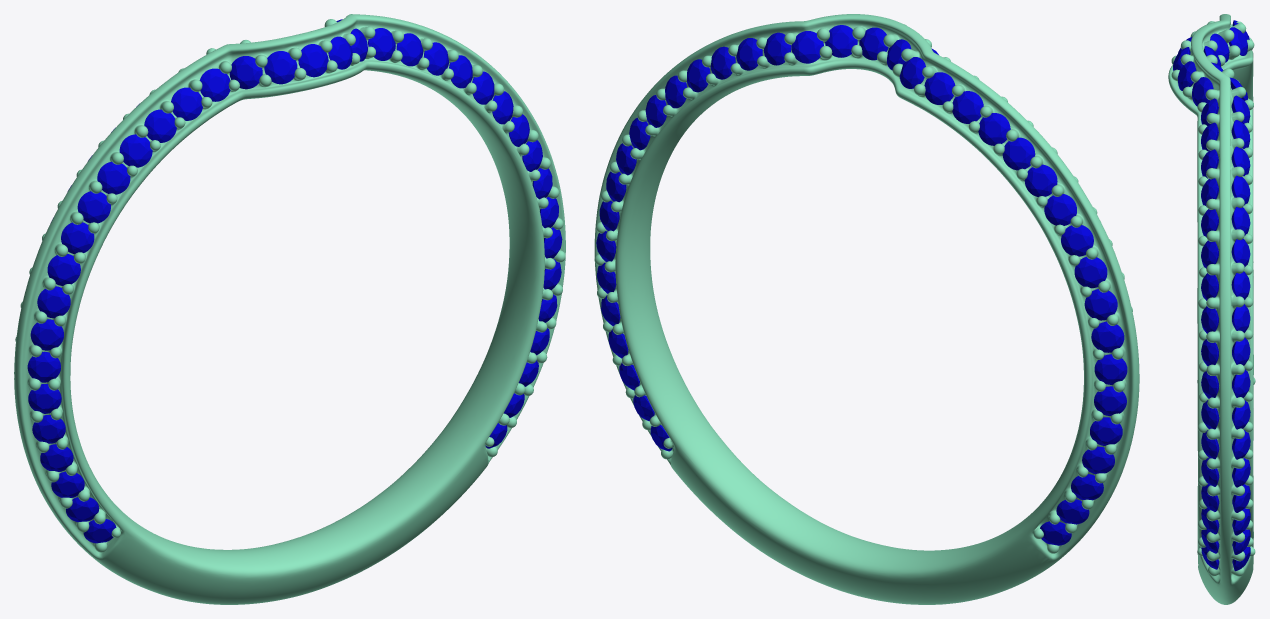
3 renders of one model, left to right at view 1: azimuth 30°, elevation 25°; view 2: azimuth 150°, elevation 25°; view 3: azimuth 270°, elevation 25°, orthographic. The views are drawn at different scales.
Visible parts, largest first — view 1: Metal03, Diamond_Band.073, Diamond_Band.067, Diamond_Band.066, Diamond_Band.068, Diamond_Band.069, Diamond_Band.070, Diamond_Band.064, Diamond_Band.065, Diamond_Band.074, Diamond_Band.063, Diamond_Band.071 (+4 smaller); view 2: Metal03, Diamond_Band.024, Diamond_Band.026, Diamond_Band.025, Diamond_Band.027, Diamond_Band.028, Diamond_Band.023, Diamond_Band.022, Diamond_Band, Diamond_Band.029, Diamond_Band.021, Diamond_Band.030 (+4 smaller); view 3: Metal03, Diamond_Band.075, Diamond_Band.011, Diamond_Band.010, Diamond_Band.009, Diamond_Band.012, Diamond_Band.008, Diamond_Band.047, Diamond_Band.013, Diamond_Band.045, Diamond_Band.046, Diamond_Band.048 (+28 smaller).
Part boxes in pixels (<box>): Metal03: <box>14,14,565,604</box>; Diamond_Band.073: <box>264,51,297,84</box>; Diamond_Band.067: <box>97,161,130,194</box>; Diamond_Band.066: <box>77,191,110,223</box>; Diamond_Band.068: <box>119,134,152,167</box>; Diamond_Band.069: <box>144,109,176,142</box>; Diamond_Band.070: <box>171,87,202,120</box>; Diamond_Band.064: <box>47,254,80,285</box>; Diamond_Band.065: <box>61,222,94,253</box>; Diamond_Band.074: <box>229,56,262,89</box>; Diamond_Band.063: <box>37,286,70,318</box>; Diamond_Band.071: <box>199,68,230,101</box>; Metal03: <box>594,14,1139,604</box>; Diamond_Band.024: <box>1002,137,1035,170</box>; Diamond_Band.026: <box>1044,194,1076,225</box>; Diamond_Band.025: <box>1024,164,1057,196</box>; Diamond_Band.027: <box>1061,225,1093,256</box>; Diamond_Band.028: <box>1074,257,1107,288</box>; Diamond_Band.023: <box>978,113,1010,145</box>; Diamond_Band.022: <box>952,91,983,123</box>; Diamond_Band: <box>791,31,823,63</box>; Diamond_Band.029: <box>1084,289,1117,320</box>; Diamond_Band.021: <box>924,72,955,104</box>; Diamond_Band.030: <box>1091,321,1124,352</box>; Metal03: <box>1168,14,1255,604</box>; Diamond_Band.075: <box>1192,77,1213,106</box>; Diamond_Band.011: <box>1231,271,1250,299</box>; Diamond_Band.010: <box>1232,304,1250,332</box>; Diamond_Band.009: <box>1232,337,1250,365</box>; Diamond_Band.012: <box>1231,238,1250,267</box>; Diamond_Band.008: <box>1232,369,1250,397</box>; Diamond_Band.047: <box>1201,306,1218,333</box>; Diamond_Band.013: <box>1231,207,1250,235</box>; Diamond_Band.045: <box>1201,240,1218,268</box>; Diamond_Band.046: <box>1201,273,1218,300</box>; Diamond_Band.048: <box>1201,339,1218,366</box>.
Size of the model in its own units: 20.89 by 20.87 by 3.08.
